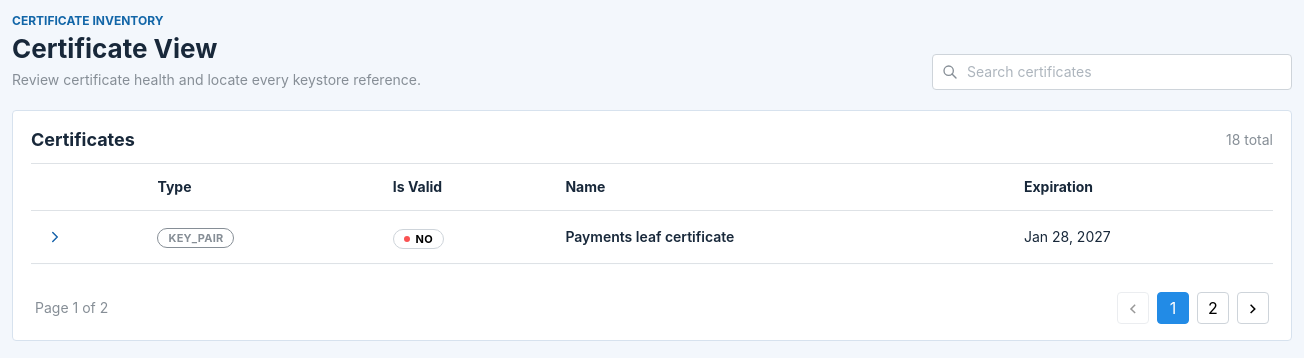
Scenario: renders the catalog and updates API paging and search inputs
Expected: the heading "Certificate View" is shown, [12,33,217,64]
Expected: the heading "Certificates" is shown, [31,127,135,153]
In the field labelled "Search certificates": x=1112, y=72 [932,54,1292,90], type "payments"
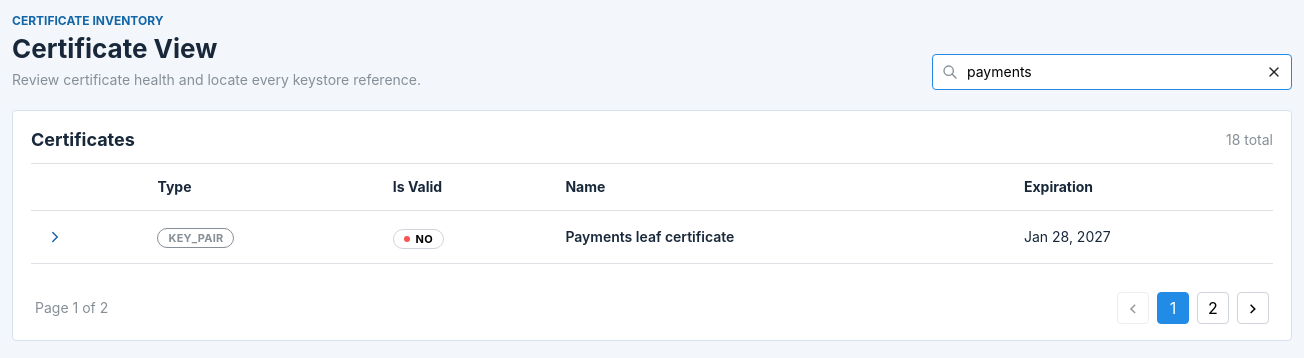
Click the button "2": x=1213, y=308 [1197,292,1229,324]
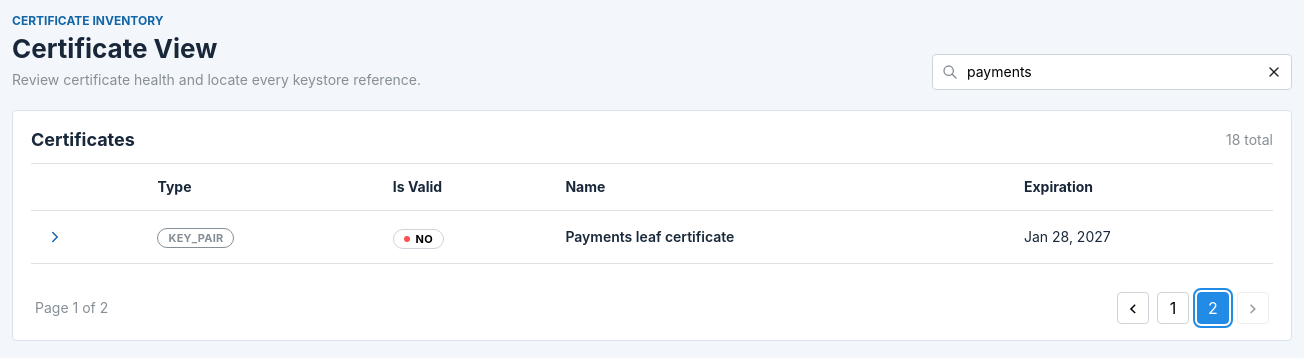
Click the button named "Clear search": x=1274, y=72 [1260,58,1288,86]
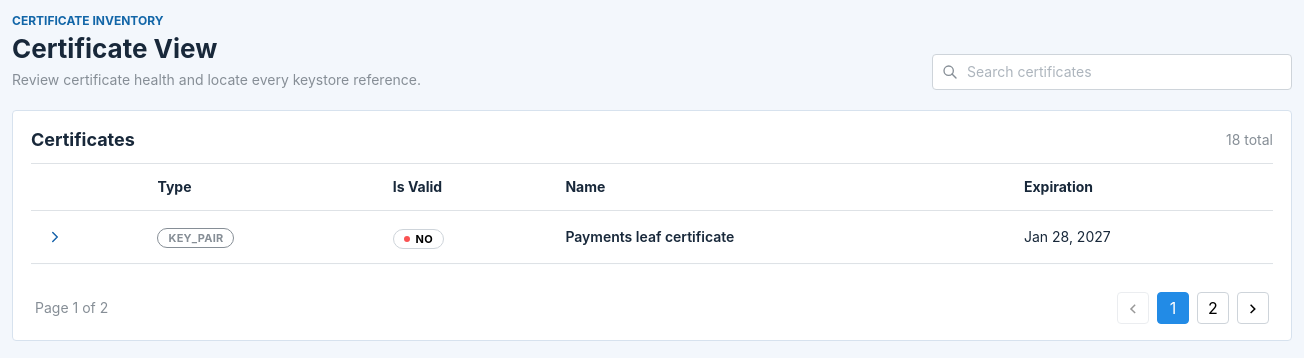
Expected: the field labelled "Search certificates" is empty, [932,54,1292,90]
